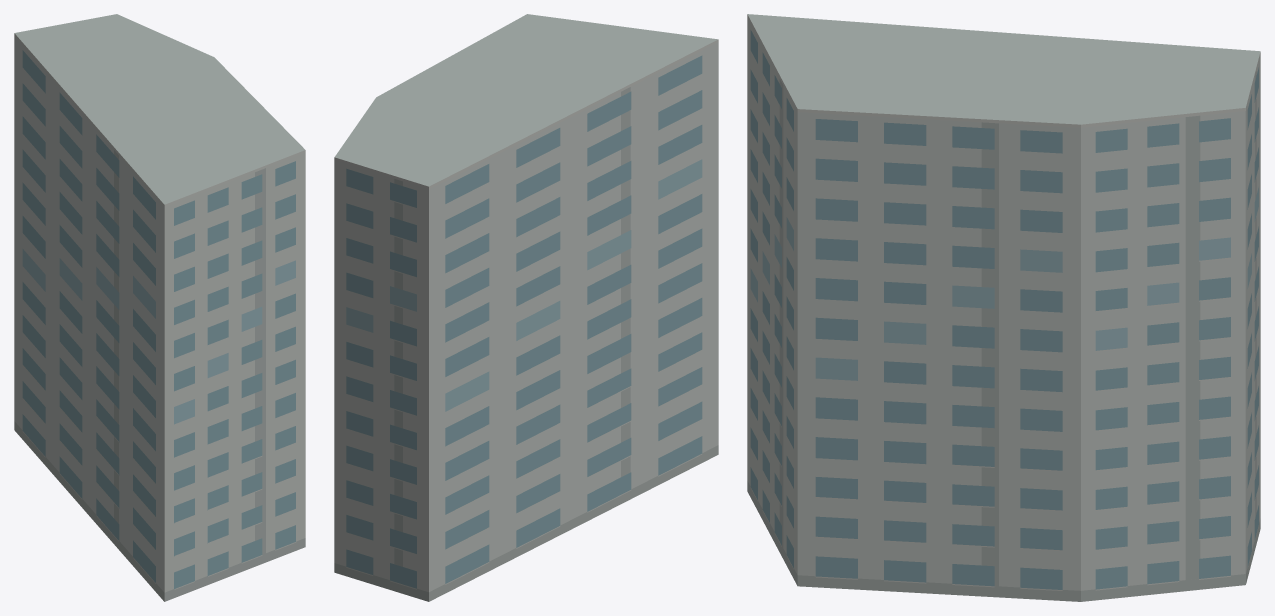
Rendered from residential-f4faf1f2-f66c-4d37-bdec-313d1505b011.glb.
The picture shows the model from 3 angles, left to right: view 1: azimuth 30°, elevation 25°; view 2: azimuth 150°, elevation 25°; view 3: azimuth 270°, elevation 25°; orthographic projection. The views are drawn at different scales.
Visible parts, largest first — view 1: residential-f4faf1f2-f66c-4d37-bdec-313d1505b011.tmp; view 2: residential-f4faf1f2-f66c-4d37-bdec-313d1505b011.tmp; view 3: residential-f4faf1f2-f66c-4d37-bdec-313d1505b011.tmp.
Part boxes in pixels (left/top/right/bottom): residential-f4faf1f2-f66c-4d37-bdec-313d1505b011.tmp: left=14, top=14, right=305, bottom=601; residential-f4faf1f2-f66c-4d37-bdec-313d1505b011.tmp: left=334, top=14, right=718, bottom=601; residential-f4faf1f2-f66c-4d37-bdec-313d1505b011.tmp: left=747, top=14, right=1260, bottom=601.
Size of the model in its own units: 17.91 by 36 by 35.1.
